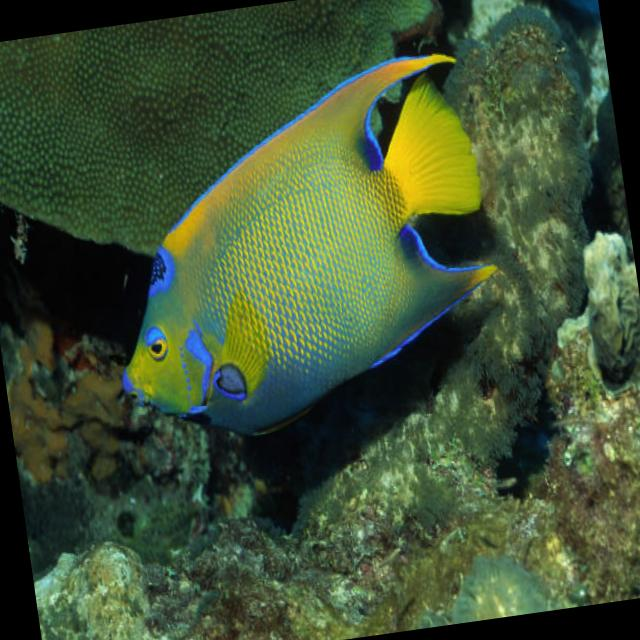AngelFish: (86, 49, 512, 452)
